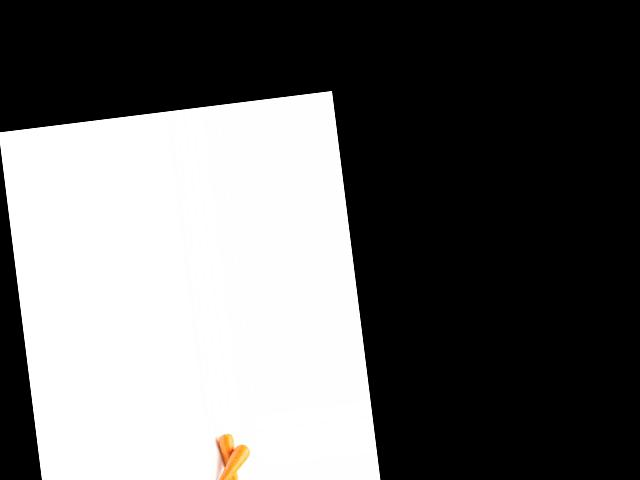carrot: (214, 429, 242, 480)
